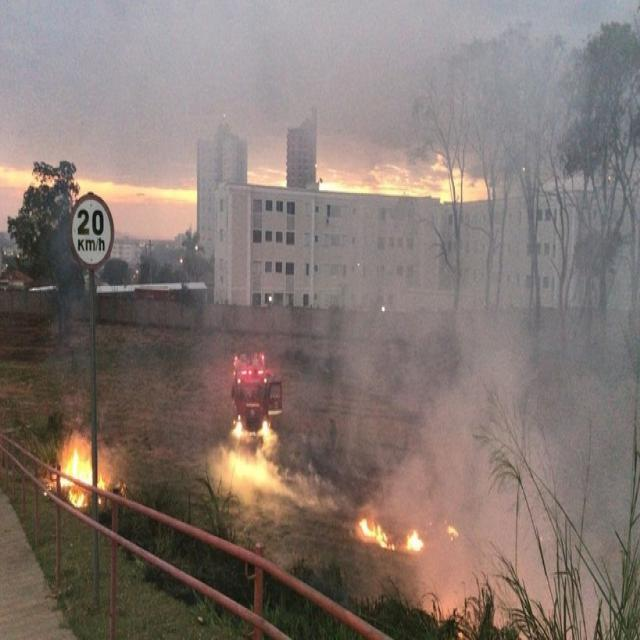Fire: (225, 453, 268, 486), (354, 512, 390, 543), (58, 452, 92, 482), (402, 519, 424, 552)
